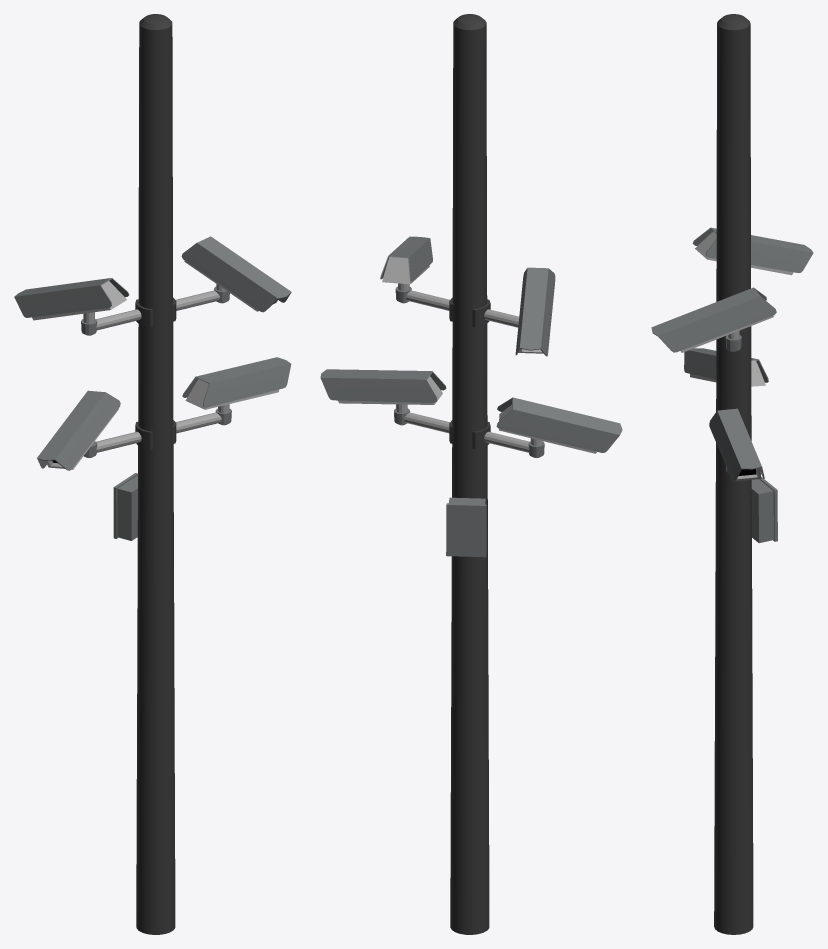
Rendered from Camera Pole.fbx.
3 renders of one model, left to right at view 1: azimuth 30°, elevation 25°; view 2: azimuth 150°, elevation 25°; view 3: azimuth 270°, elevation 25°, orthographic.
Visible parts, largest first — view 1: Camera_Pole, Camera_Top_Piece (×4), Camera_Lower_Piece (×4); view 2: Camera_Pole, Camera_Top_Piece (×4), Camera_Lower_Piece (×3); view 3: Camera_Pole, Camera_Top_Piece (×4).
Boxes of the visible parts, bbox=[...] form: Camera_Pole: bbox=[113, 14, 176, 934]; Camera_Top_Piece (×4): bbox=[14, 236, 291, 470]; Camera_Lower_Piece (×4): bbox=[81, 284, 231, 457]; Camera_Pole: bbox=[446, 14, 490, 934]; Camera_Top_Piece (×4): bbox=[320, 236, 622, 453]; Camera_Lower_Piece (×3): bbox=[394, 283, 544, 457]; Camera_Pole: bbox=[714, 14, 777, 934]; Camera_Top_Piece (×4): bbox=[651, 227, 813, 481].
Size of the model in its own units: 2 by 6.34 by 1.02.
